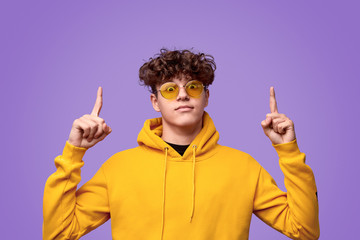teen: (146, 52, 221, 132)
